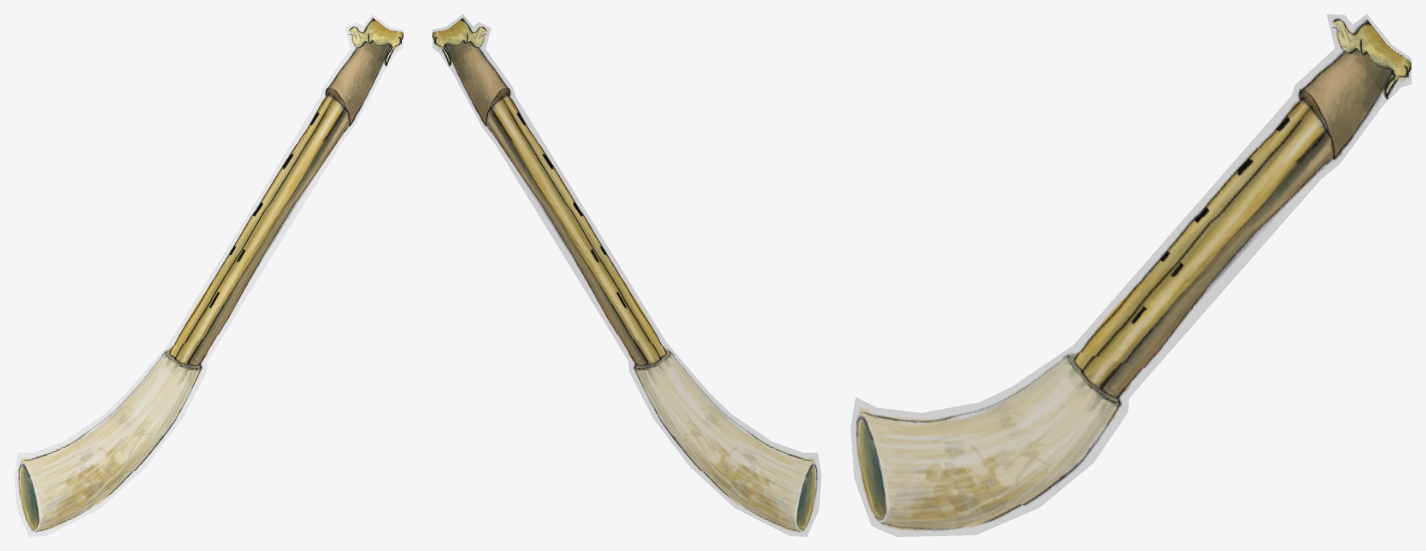
3 views of the same model, side by side, from view 1: azimuth 30°, elevation 25°; view 2: azimuth 150°, elevation 25°; view 3: azimuth 330°, elevation 25° (orthographic). The views are drawn at different scales.
Visible parts, largest first — view 1: Plane; view 2: Plane; view 3: Plane.
Part boxes in pixels (x1,y1,x2,y2): Plane: [14, 14, 403, 536]; Plane: [432, 14, 821, 536]; Plane: [850, 14, 1411, 536].
Size of the model in its own units: 3.03 by 3.29 by 0.
1 material, 1 textured.
